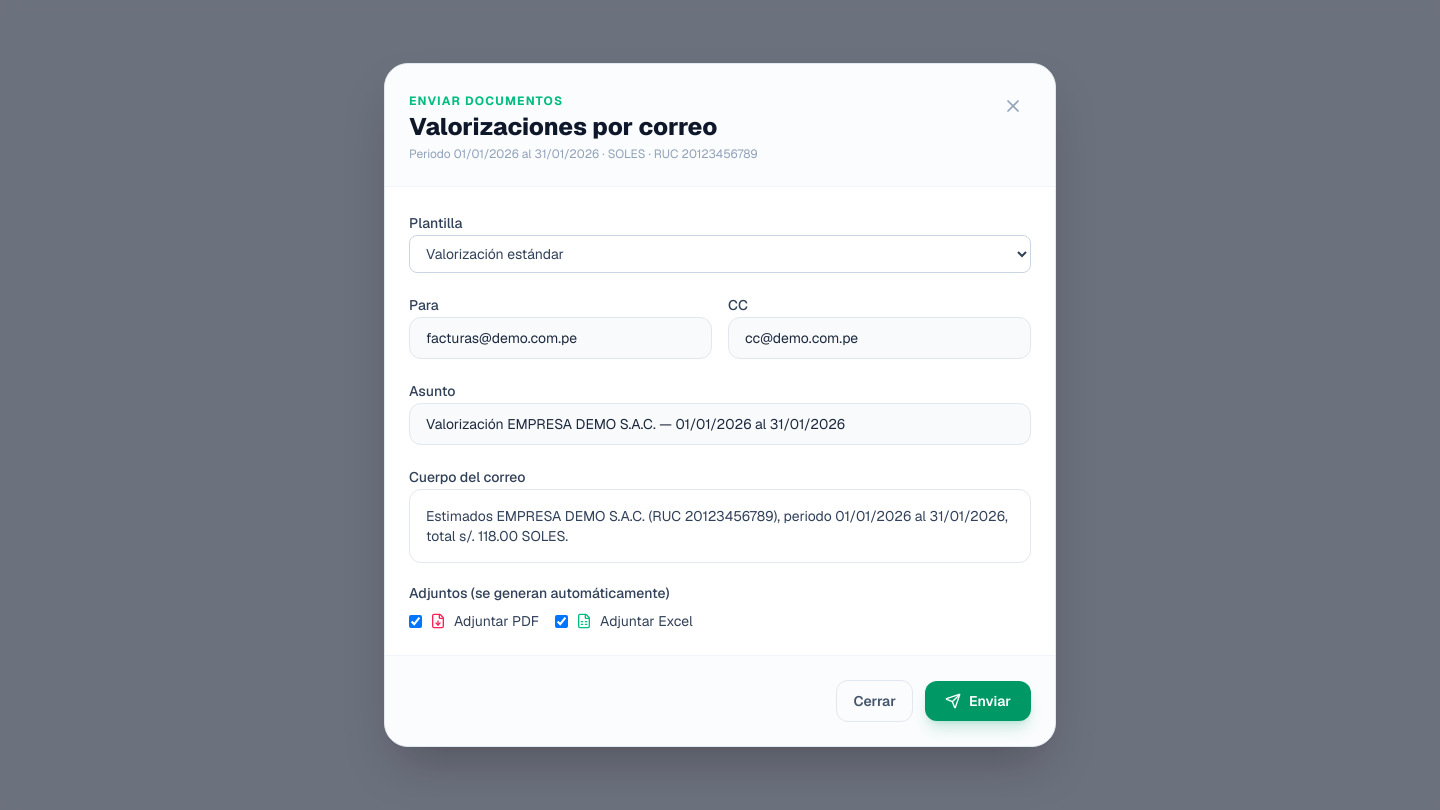
it: EnviarValoracionesModal › switching templates: the dropdown follows the choice and the body re-interpolates (selection regression)
expect the field labelled "Asunto" holds "Valorización EMPRESA DEMO S.A.C. — 01/01/2026 al 31/01/2026": met, box [409,403,1031,445]
# User switches to the second template...
Select "Recordatorio de deuda" in the dropdown at [720, 254], box [409,235,1031,273]
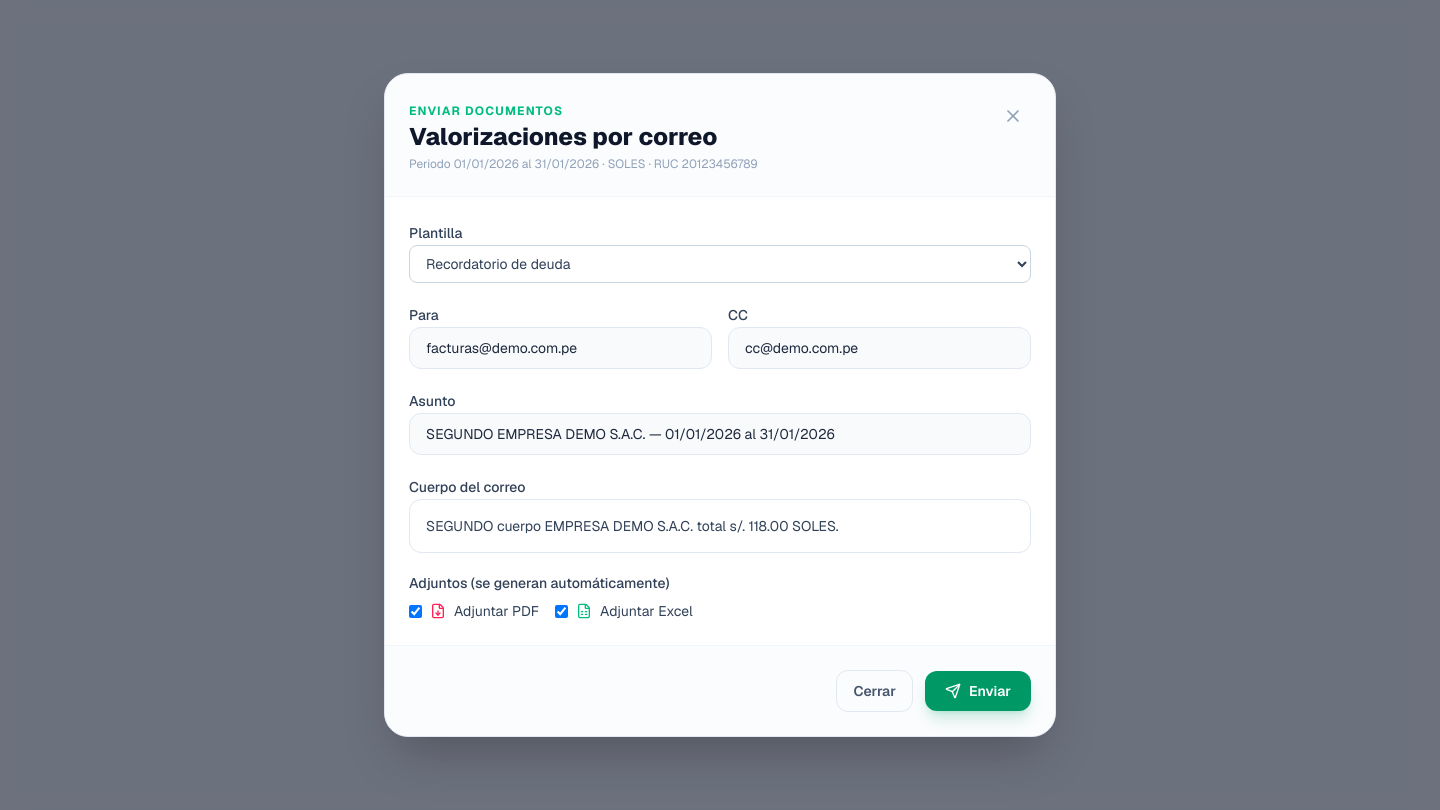
expect the field labelled "Asunto" holds "SEGUNDO EMPRESA DEMO S.A.C. — 01/01/2026 al 31/01/2026": met, box [409,413,1031,455]
